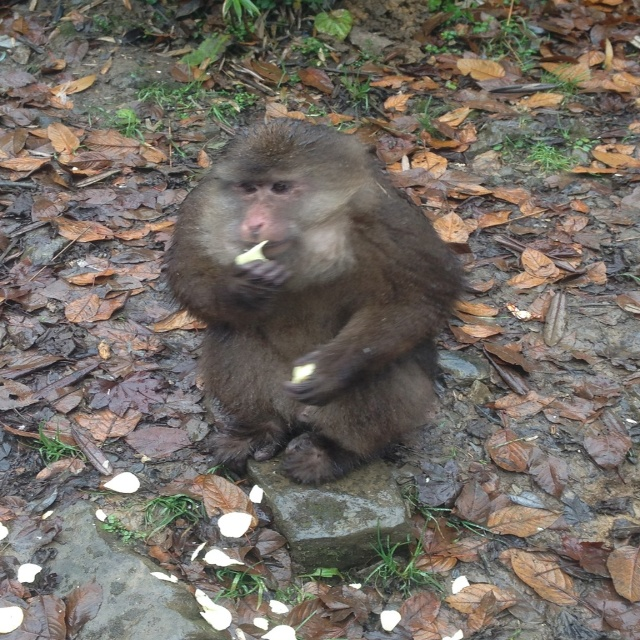Monkey: (163, 110, 468, 482)
